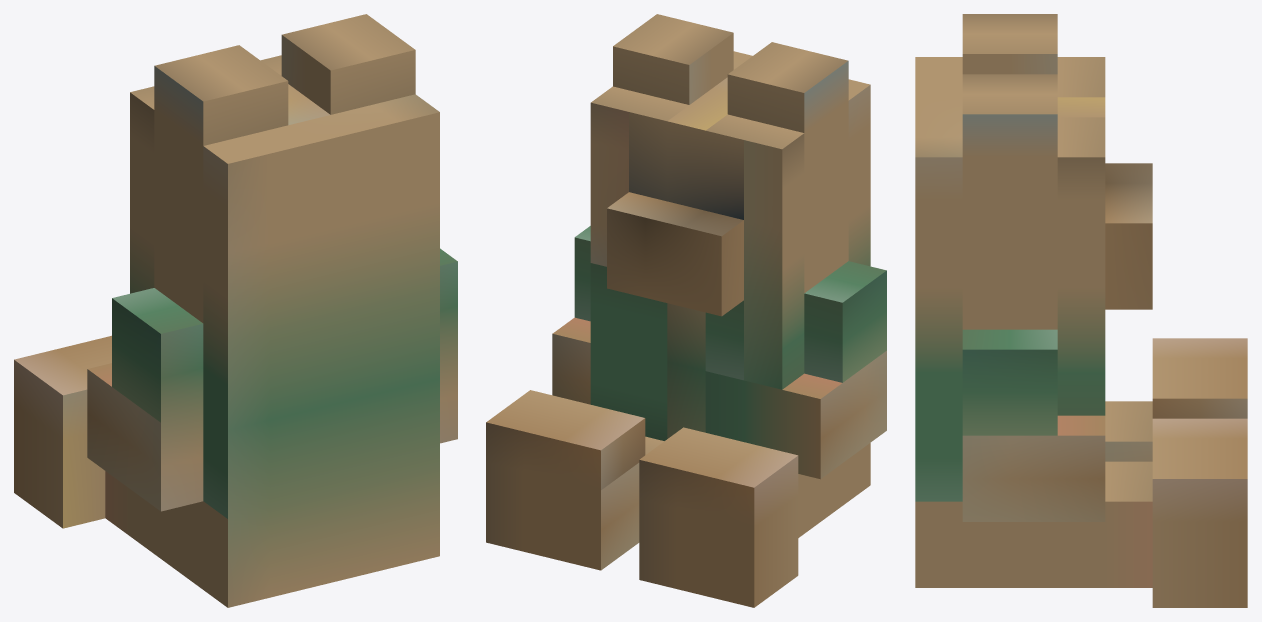
Rendered from TeddyBearBrownWithGreenShirt_00.fbx.
3 renders of one model, left to right at view 1: azimuth 30°, elevation 25°; view 2: azimuth 150°, elevation 25°; view 3: azimuth 270°, elevation 25°, orthographic. The views are drawn at different scales.
Parts seen in each view (by area): view 1: TeddyBearBrownWithGreenShirt_00; view 2: TeddyBearBrownWithGreenShirt_00; view 3: TeddyBearBrownWithGreenShirt_00.
Part boxes in pixels (x1,y1,x2,y2): TeddyBearBrownWithGreenShirt_00: [14, 14, 457, 607]; TeddyBearBrownWithGreenShirt_00: [486, 14, 886, 607]; TeddyBearBrownWithGreenShirt_00: [915, 14, 1247, 607].
Bounding box in the file's own units: 35 × 35 × 55.
Materials: 1 (1 with a texture image).
